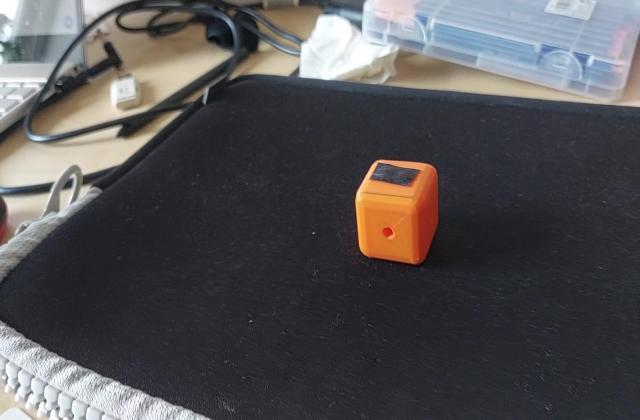black: (370, 161, 424, 189)
cube: (350, 158, 442, 268)
